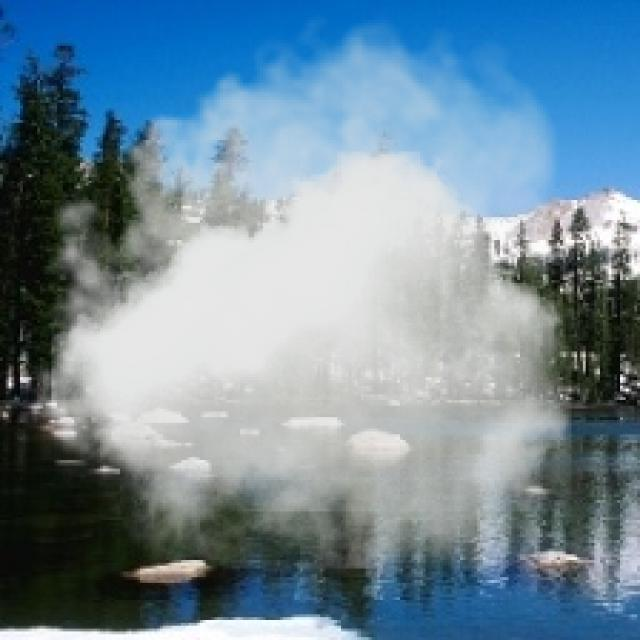Smoke: (17, 2, 572, 568)
